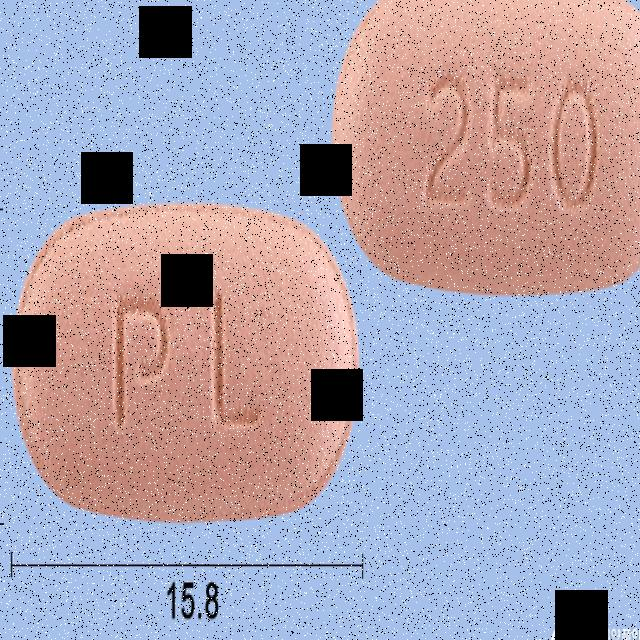Levoxacin: (12, 205, 360, 521), (334, 0, 640, 295)
